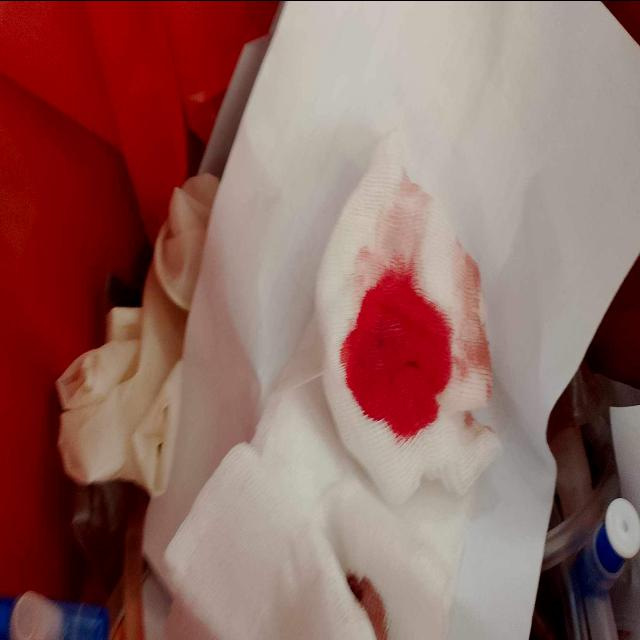General: (2, 4, 282, 627)
Infectious: (312, 131, 502, 508), (54, 171, 220, 499)
Pathological: (139, 4, 637, 637)
Sharps: (565, 496, 639, 640)
